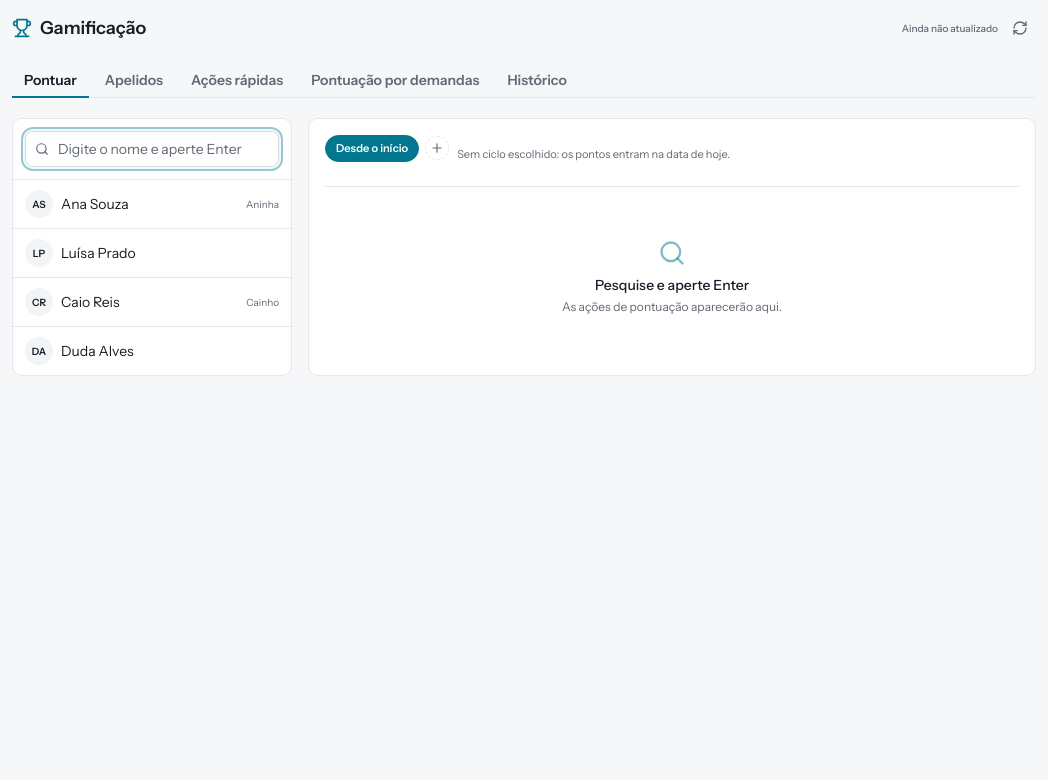
Test case: aba de apelidos › só uma área fica aberta por vez
Click the button "Apelidos" at {"x": 134, "y": 81}, box x1=93 y1=64 x2=175 y2=98
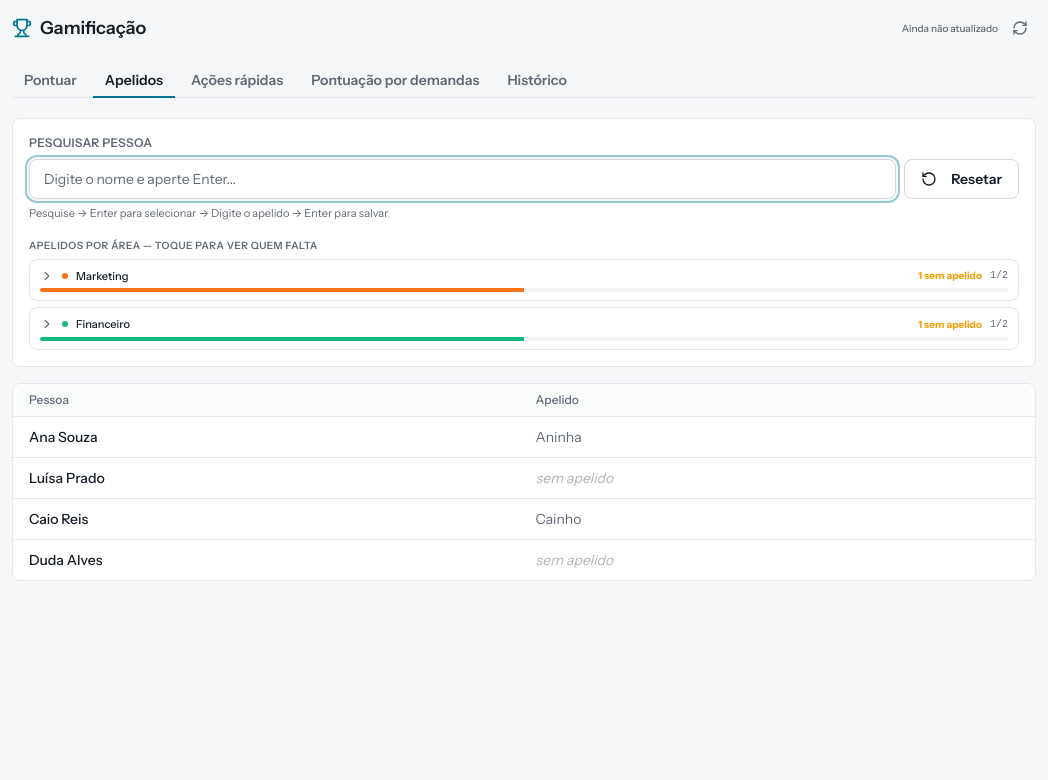
Click the button "Marketing 1 sem apelido 1/2" at {"x": 102, "y": 276}, box x1=30 y1=260 x2=1018 y2=300
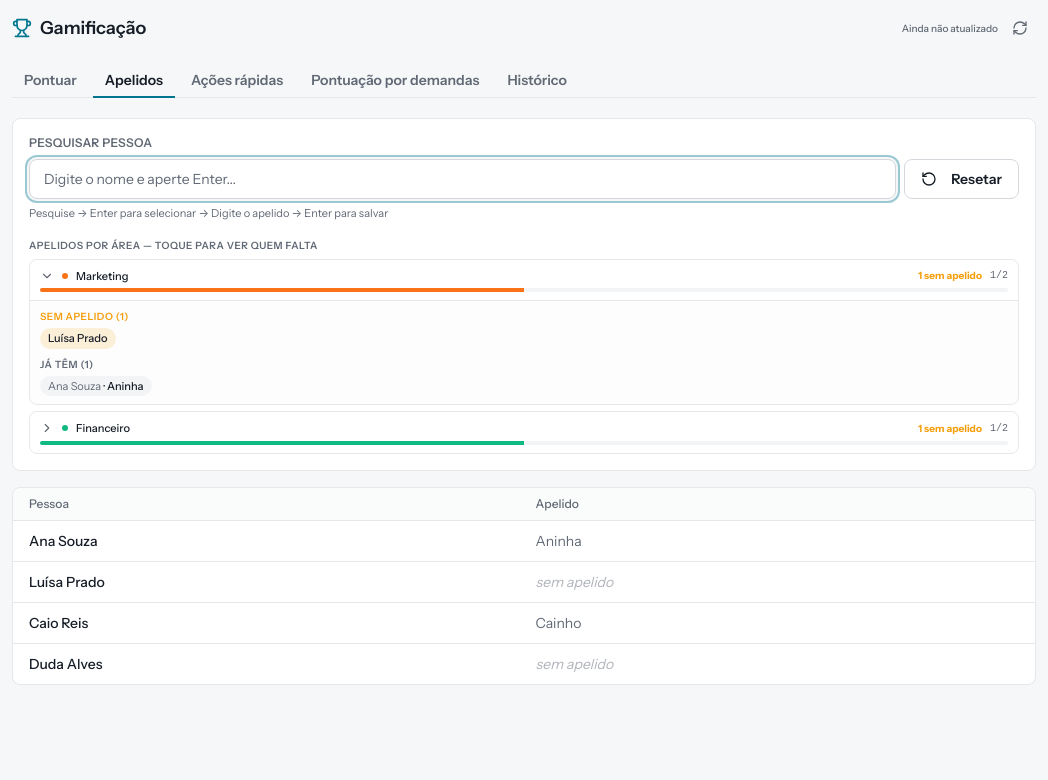
Expected: the button "Marketing 1 sem apelido 1/2" is expanded, x1=30 y1=260 x2=1018 y2=300
Click the button "Financeiro 1 sem apelido 1/2" at {"x": 103, "y": 428}, box x1=30 y1=412 x2=1018 y2=452
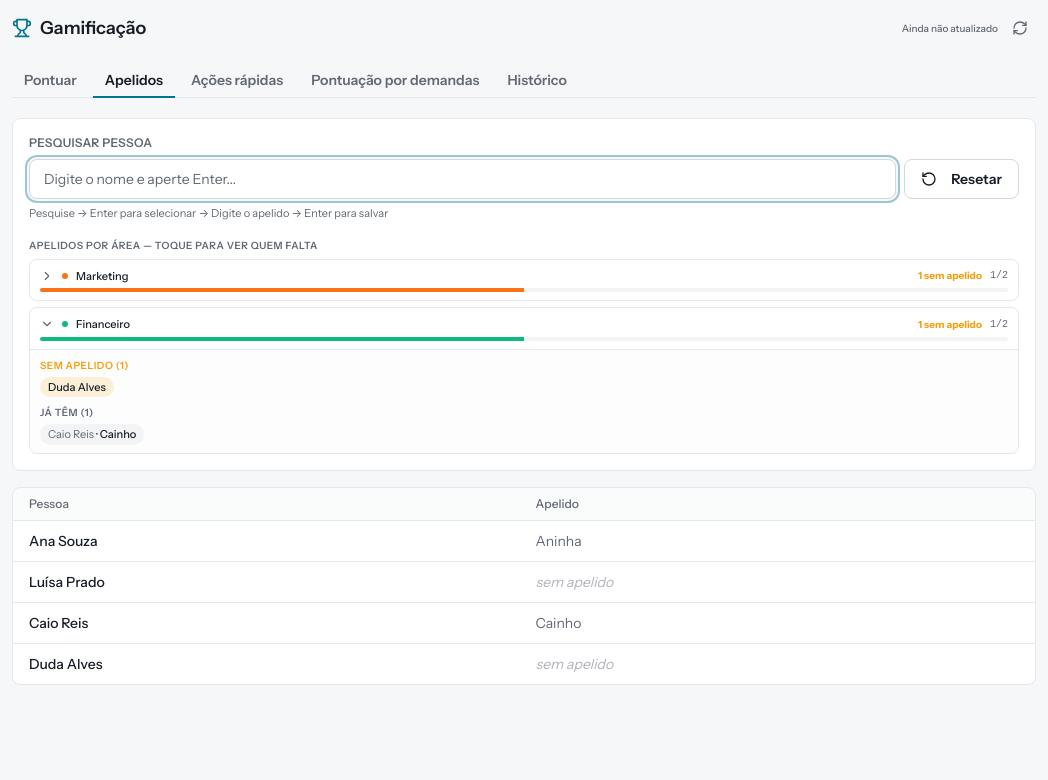
Expected: the button "Marketing 1 sem apelido 1/2" is collapsed, x1=30 y1=260 x2=1018 y2=300
Expected: the button "Financeiro 1 sem apelido 1/2" is expanded, x1=30 y1=308 x2=1018 y2=348
